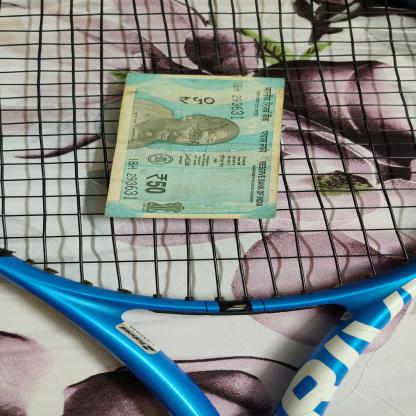New50Front: (103, 70, 293, 220)
